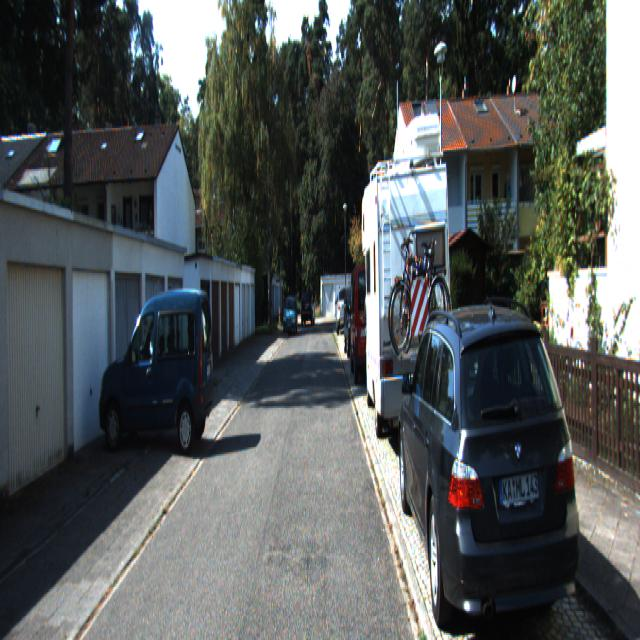Car: (396, 296, 589, 638), (361, 135, 449, 449), (99, 288, 215, 458), (350, 256, 392, 387), (336, 288, 352, 336), (284, 297, 298, 336)
